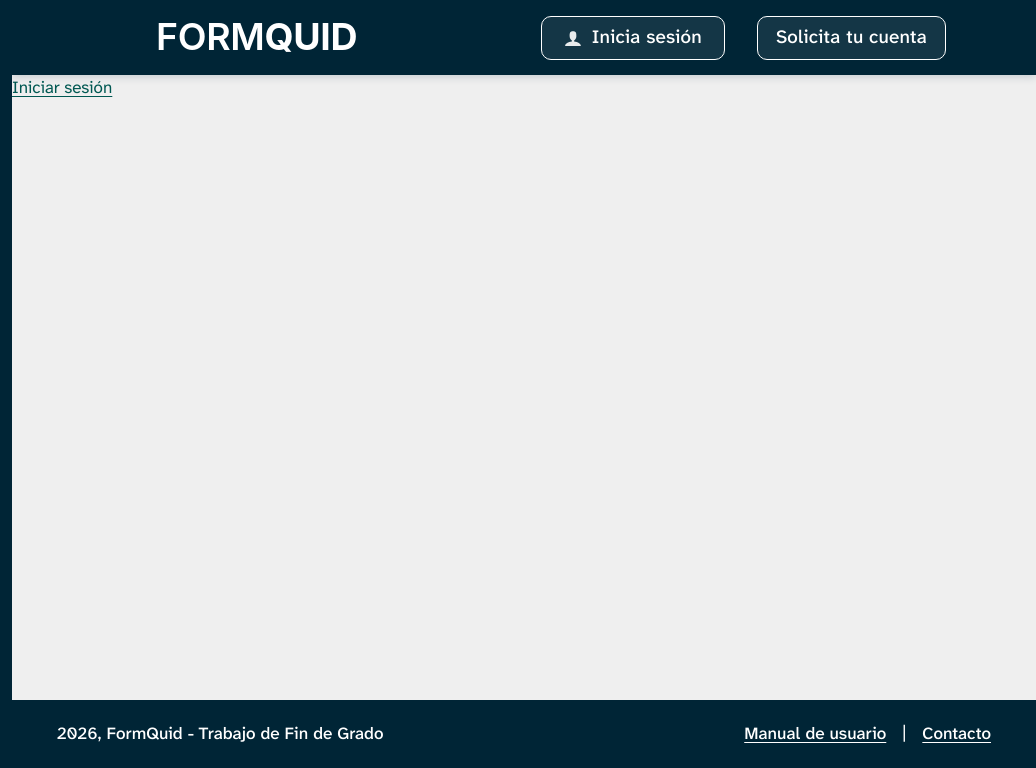
navegación de la aplicación › actualiza el título y lleva el foco al contenido al cambiar de pantalla
Click the link "Iniciar sesión" at (62, 87), box x1=12 y1=76 x2=112 y2=98
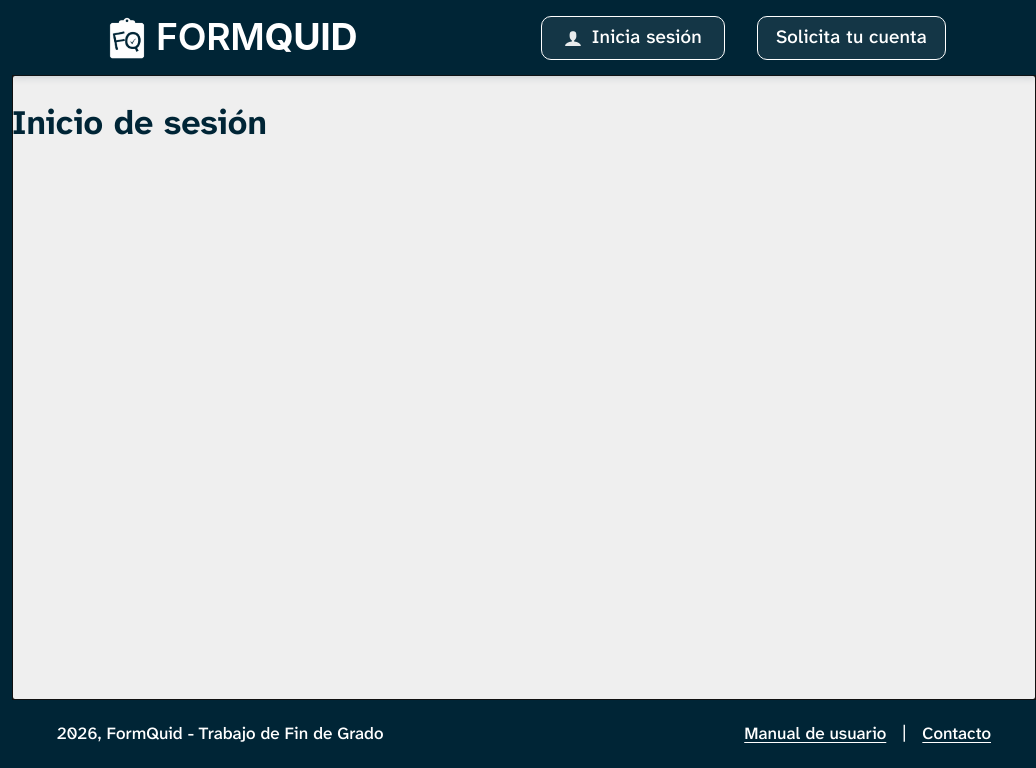
Expected: the heading "Inicio de sesión" is shown, x1=12 y1=101 x2=267 y2=145
